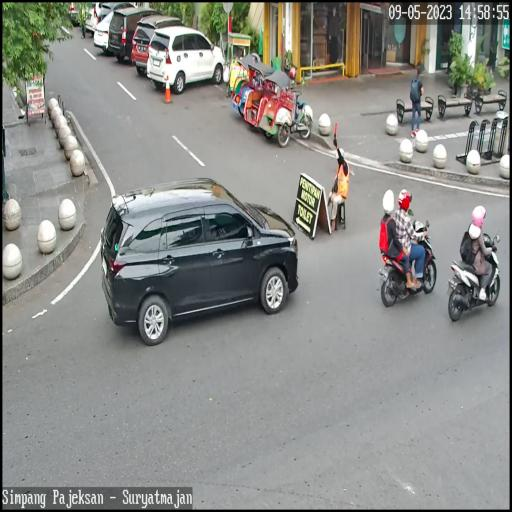mobil: (100, 176, 296, 348), (149, 26, 221, 90), (108, 9, 156, 62), (132, 18, 180, 70)
motor: (378, 212, 436, 306), (446, 230, 502, 322)
